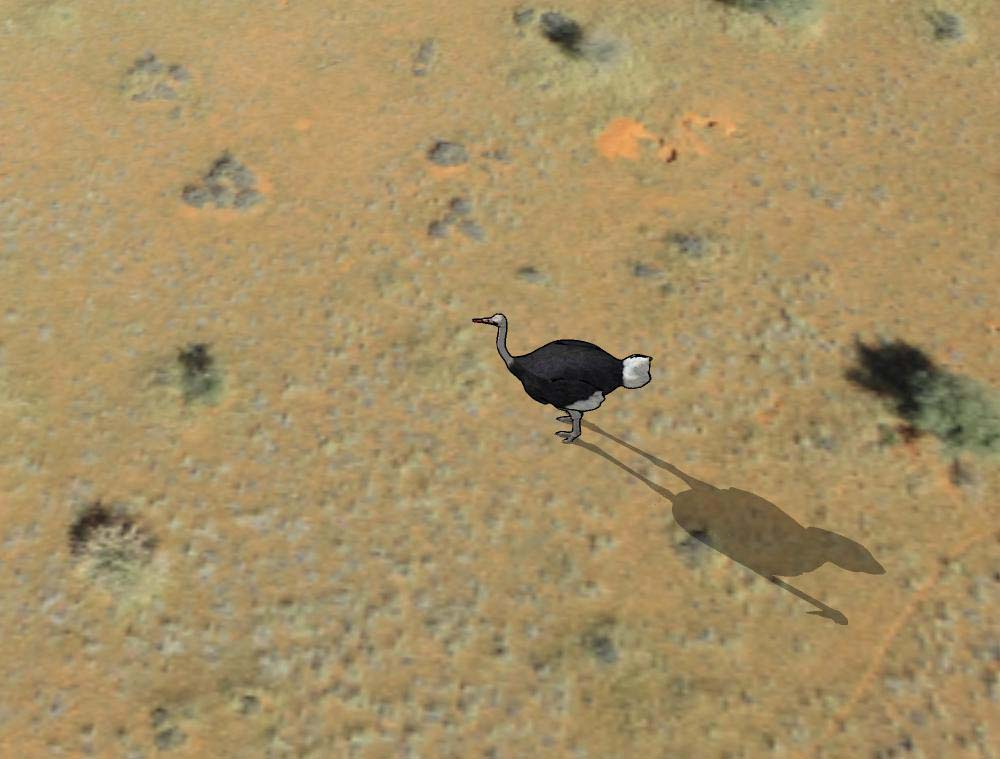ostrich: (468, 306, 660, 454)
